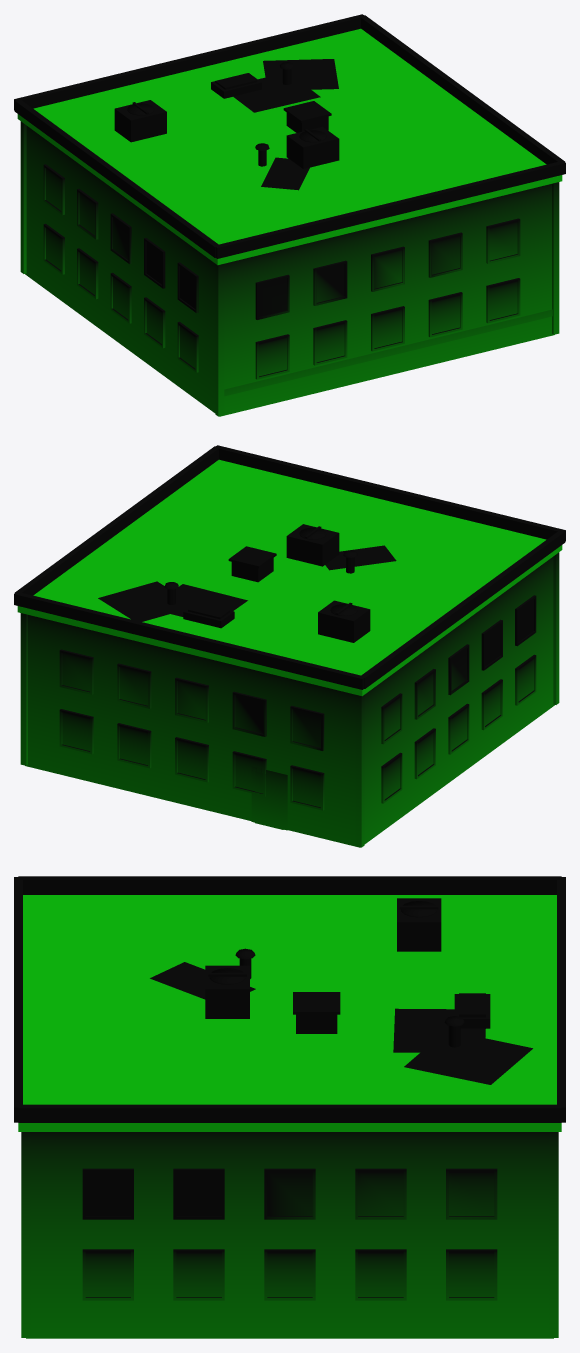
File: city2storya.glb
3 views of the same model, one above another, from view 1: azimuth 30°, elevation 25°; view 2: azimuth 150°, elevation 25°; view 3: azimuth 270°, elevation 25° (orthographic). The views are drawn at different scales.
Parts seen in each view (by area): view 1: lod0; view 2: lod0; view 3: lod0.
Boxes of the visible parts, <box> form: lod0: <box>14,14,565,416</box>; lod0: <box>14,445,565,847</box>; lod0: <box>14,876,565,1338</box>.
Size of what is drawn, in the model's own units: 18.5 by 9.44 by 18.6.
